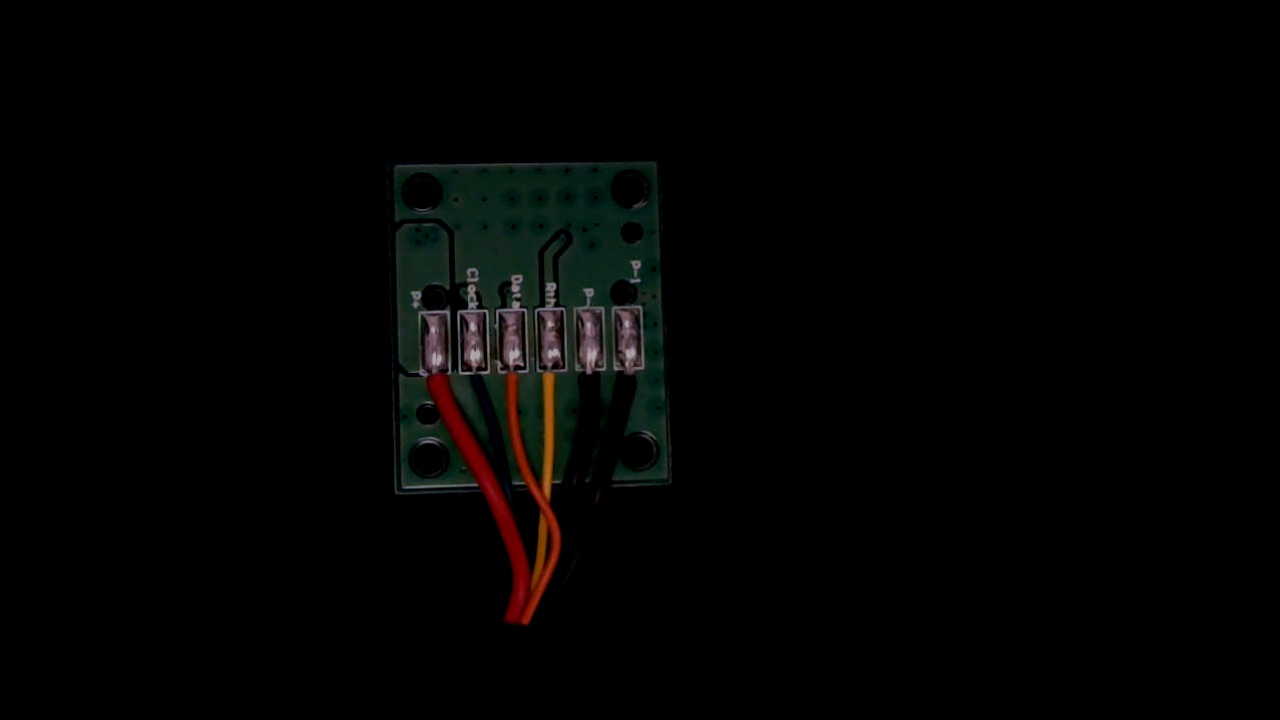Black: (574, 356, 608, 429)
Black1: (616, 350, 650, 417)
Green: (458, 355, 493, 421)
Orange: (497, 357, 530, 429)
Red: (420, 358, 454, 428)
Yellow: (537, 353, 571, 427)
